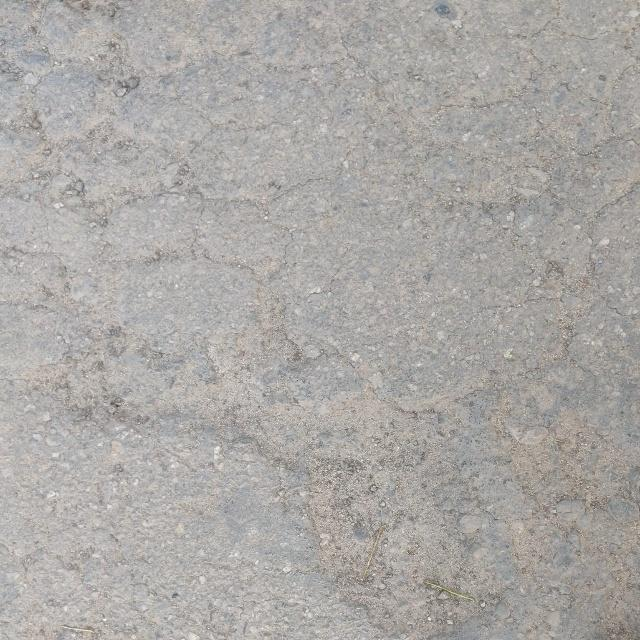Surface Erosion: (12, 36, 640, 616)
